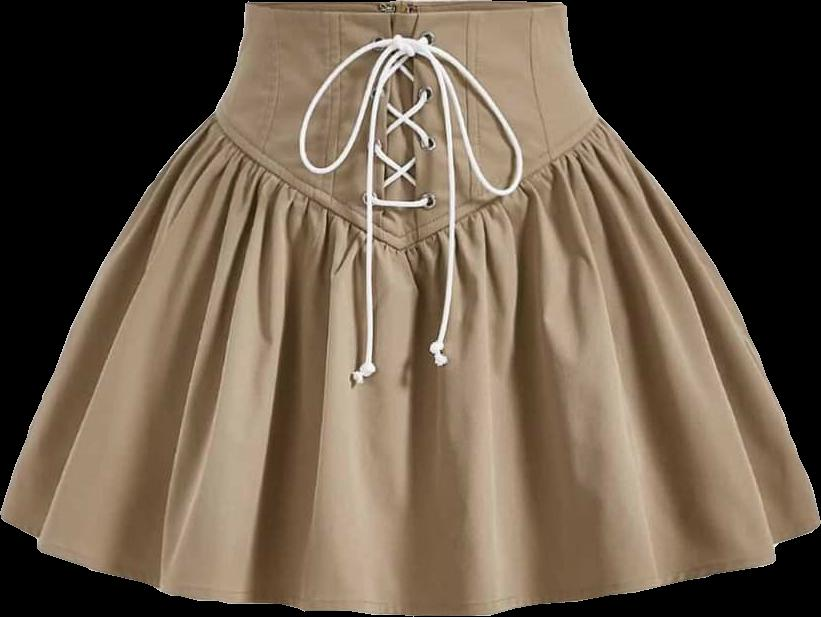Hemline: (0, 511, 820, 616)
Waistline: (213, 105, 600, 253), (240, 0, 563, 19)
